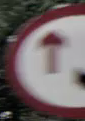Two way: (22, 7, 84, 90)
